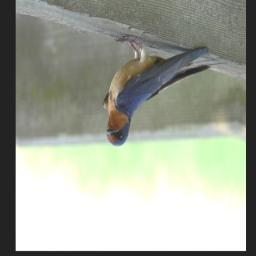Swallow: (99, 25, 230, 168)
